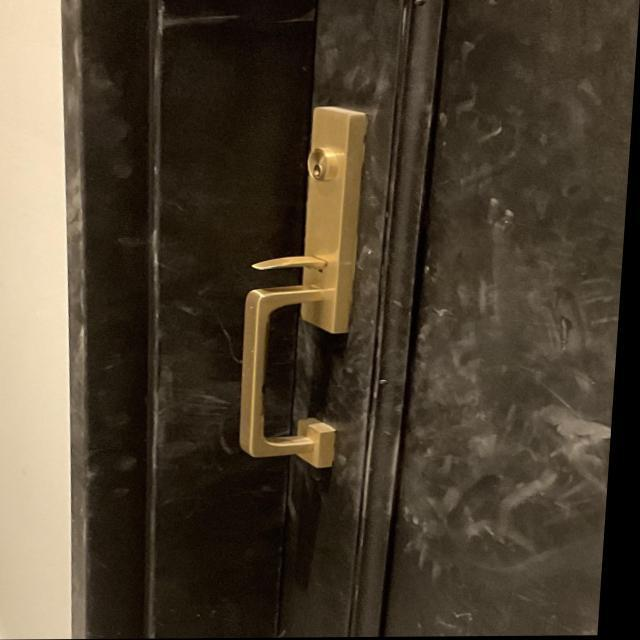door_handle: (225, 281, 376, 475)
